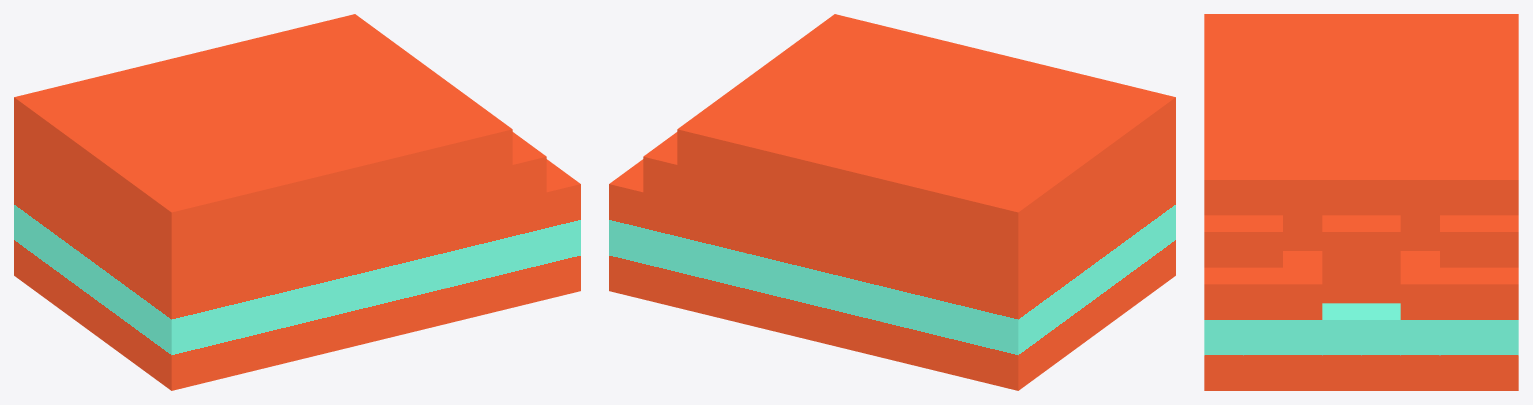
Rendered from 吉吉喵的脚.gltf.
3 renders of one model, left to right at view 1: azimuth 30°, elevation 25°; view 2: azimuth 150°, elevation 25°; view 3: azimuth 270°, elevation 25°, orthographic.
Visible parts, largest first — view 1: Object; view 2: Object; view 3: Object.
Boxes of the visible parts, x1,y1,x2,y2 form: Object: [14, 14, 580, 390]; Object: [609, 14, 1175, 390]; Object: [1204, 14, 1518, 390].
Size of the model in its own units: 12 by 5 by 8.
Materials: 1 (1 with a texture image).
